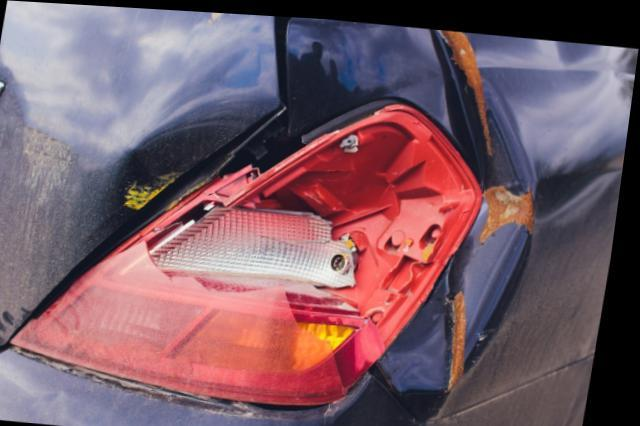dent: (386, 83, 535, 385), (115, 107, 254, 217)
lamp broken: (14, 96, 489, 402)
